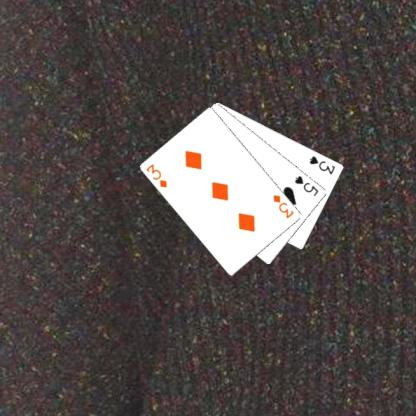3D: (270, 192, 296, 220), (144, 161, 168, 189)
3S: (306, 153, 336, 176)
5S: (292, 172, 320, 198)
